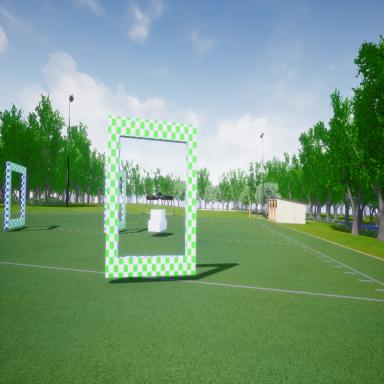gate: (105, 111, 199, 280), (4, 158, 29, 236)
